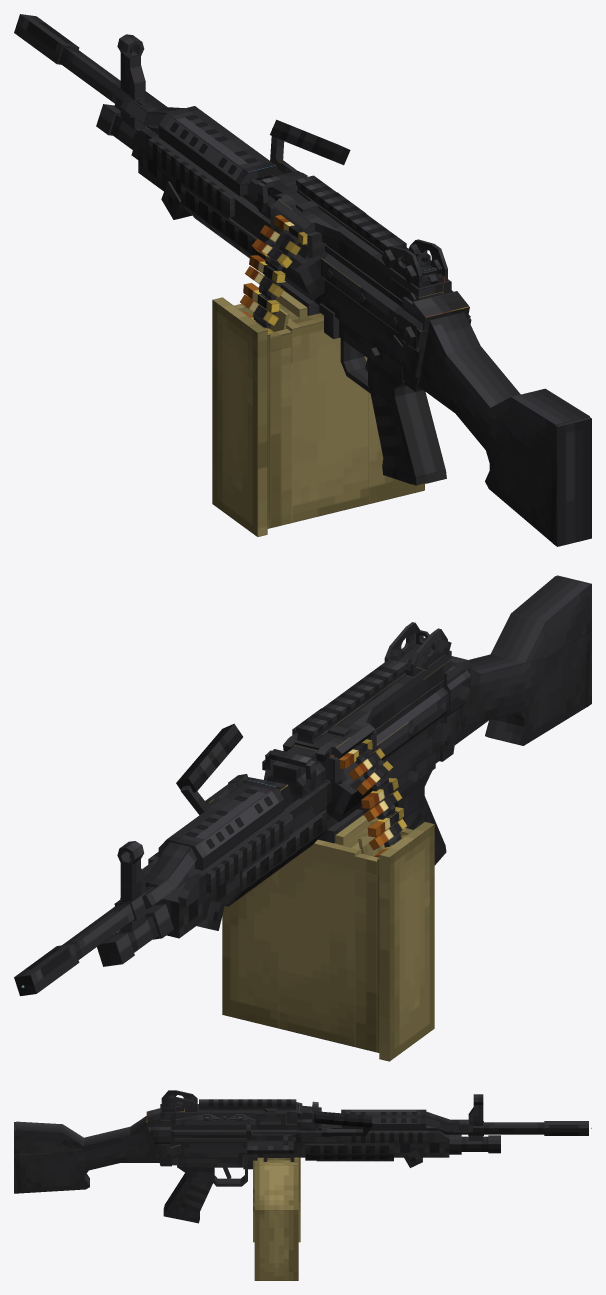
The picture shows the model from 3 angles, top to bottom: view 1: azimuth 30°, elevation 25°; view 2: azimuth 150°, elevation 25°; view 3: azimuth 270°, elevation 25°; orthographic projection. The views are drawn at different scales.
Visible parts, largest first — view 1: gun, magazine, cover, carryhandle; view 2: gun, magazine, cover, carryhandle; view 3: gun, magazine, cover, carryhandle, action.
Part boxes in pixels (x1,y1,x2,y2): gun: [14, 14, 591, 546]; magazine: [212, 290, 424, 536]; cover: [272, 175, 451, 301]; carryhandle: [270, 119, 350, 173]; gun: [14, 575, 591, 996]; magazine: [222, 814, 434, 1061]; cover: [283, 622, 451, 762]; carryhandle: [176, 723, 286, 814]; gun: [14, 1094, 588, 1223]; magazine: [253, 1157, 300, 1280]; cover: [160, 1090, 302, 1125]; carryhandle: [314, 1111, 374, 1136]; action: [246, 1125, 292, 1144].
Size of the model in its own units: 131 by 239 by 743.
